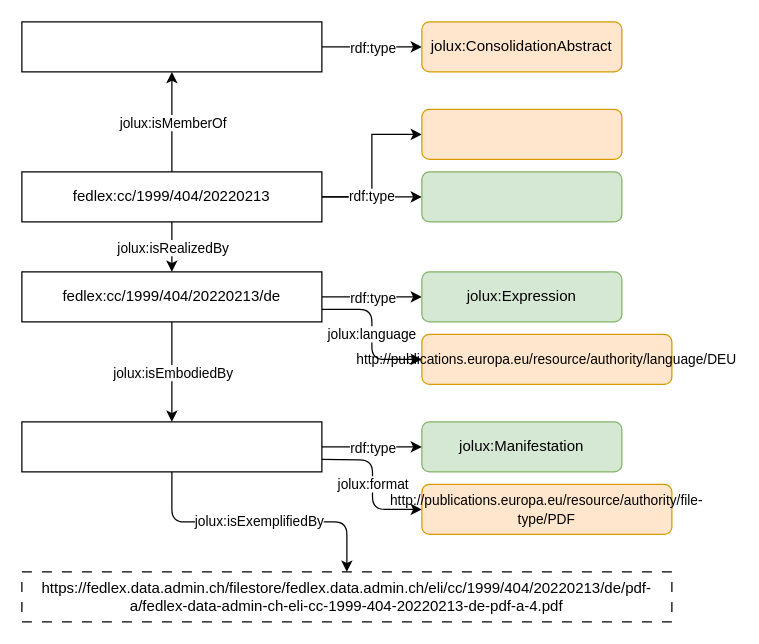
The diagram is 759 pixels wide and 644 high, and some of its shapes have lost their labels. Each missing label, with the box of its shape:
fedlex:cc/1999/404: (21, 21, 322, 72)
fedlex:cc/1999/404/20220213/de/pdf-a: (21, 421, 322, 472)
jolux:Consolidation: (421, 108, 622, 159)
jolux:Work: (421, 171, 622, 222)
